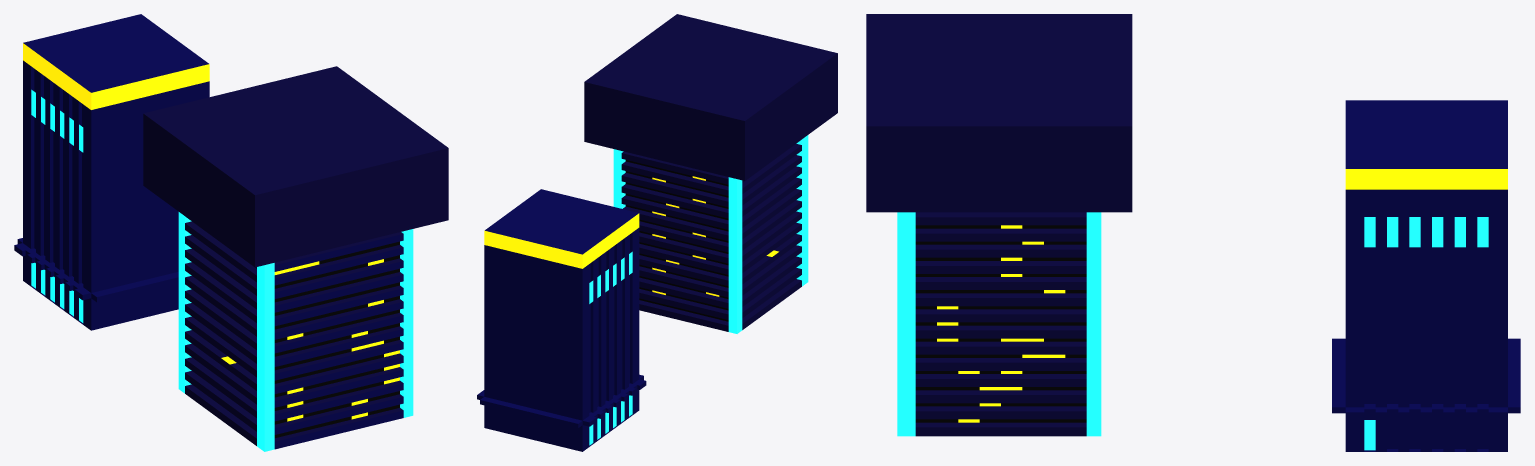
Rendered from house15.glb.
3 renders of one model, left to right at view 1: azimuth 30°, elevation 25°; view 2: azimuth 150°, elevation 25°; view 3: azimuth 270°, elevation 25°, orthographic. The views are drawn at different scales.
Visible parts, largest first — view 1: 立方体, 立方体.001, 立方体.002, 平面.002, 平面.003; view 2: 立方体.002, 立方体.001, 立方体, 平面.002, 平面.003; view 3: 立方体.002, 立方体.001, 立方体, 平面.001.
Part boxes in pixels (x1=…): 立方体: x1=178, y1=212, x2=413, y2=451; 立方体.001: x1=143, y1=66, x2=448, y2=267; 立方体.002: x1=14, y1=14, x2=209, y2=330; 平面.002: x1=31, y1=89, x2=83, y2=152; 平面.003: x1=31, y1=262, x2=83, y2=322; 立方体.002: x1=477, y1=189, x2=646, y2=451; 立方体.001: x1=584, y1=14, x2=837, y2=180; 立方体: x1=613, y1=135, x2=808, y2=333; 平面.002: x1=589, y1=251, x2=632, y2=303; 平面.003: x1=589, y1=395, x2=632, y2=445; 立方体.002: x1=1332, y1=100, x2=1520, y2=451; 立方体.001: x1=866, y1=14, x2=1132, y2=212; 立方体: x1=897, y1=212, x2=1101, y2=436; 平面.001: x1=1364, y1=217, x2=1488, y2=247.
Size of the model in its own units: 8.29 by 11.95 by 20.4.
